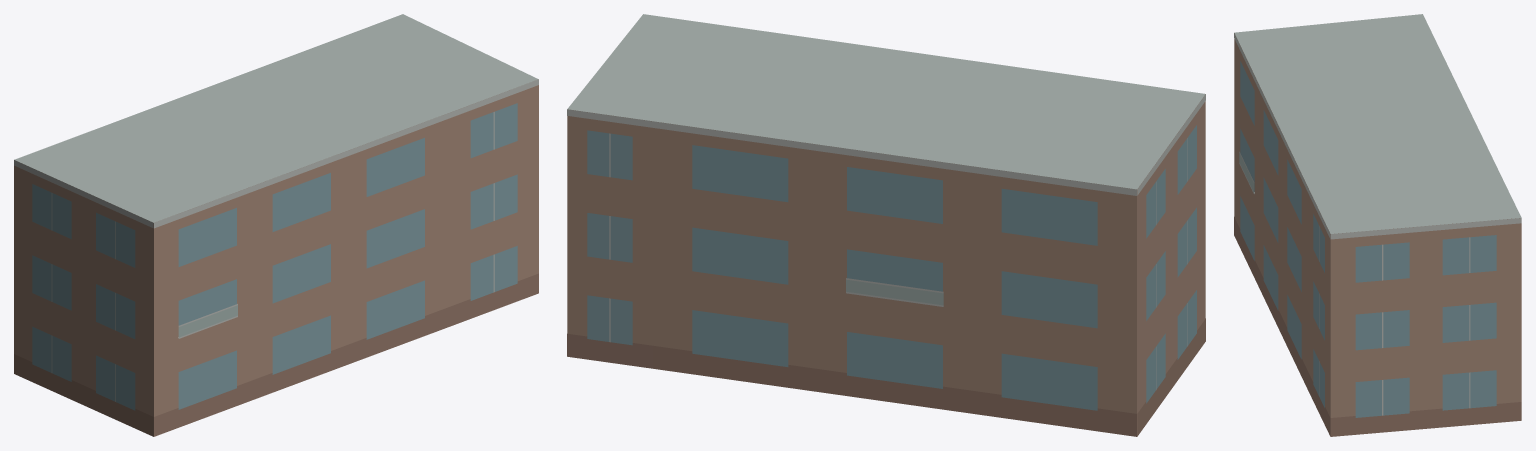
The model's file is survey-upis-32619626.glb.
3 renders of one model, left to right at view 1: azimuth 30°, elevation 25°; view 2: azimuth 150°, elevation 25°; view 3: azimuth 270°, elevation 25°, orthographic. The views are drawn at different scales.
Parts seen in each view (by area): view 1: survey-upis-32619626.tmp; view 2: survey-upis-32619626.tmp; view 3: survey-upis-32619626.tmp.
Part boxes in pixels (x1,y1,x2,y2): survey-upis-32619626.tmp: (14, 14, 538, 436); survey-upis-32619626.tmp: (567, 14, 1205, 436); survey-upis-32619626.tmp: (1234, 14, 1521, 436).
Bounding box in the file's own units: 21.3 × 9.15 × 11.77.
